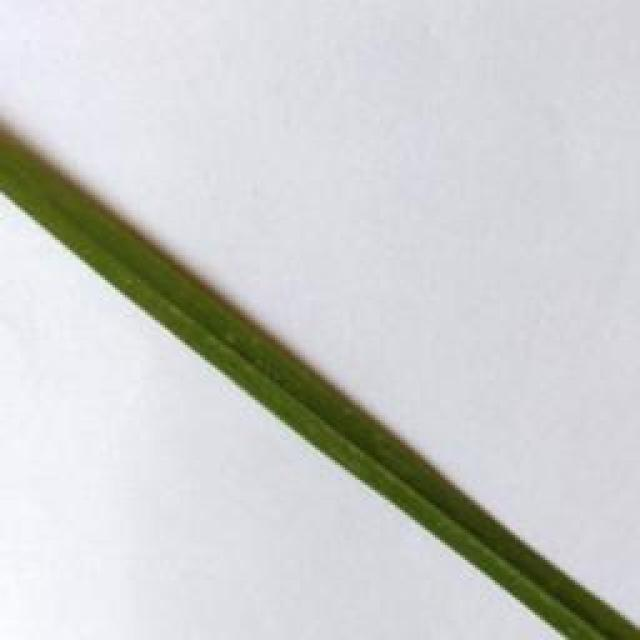Healthy-Plant: (0, 134, 640, 640)
